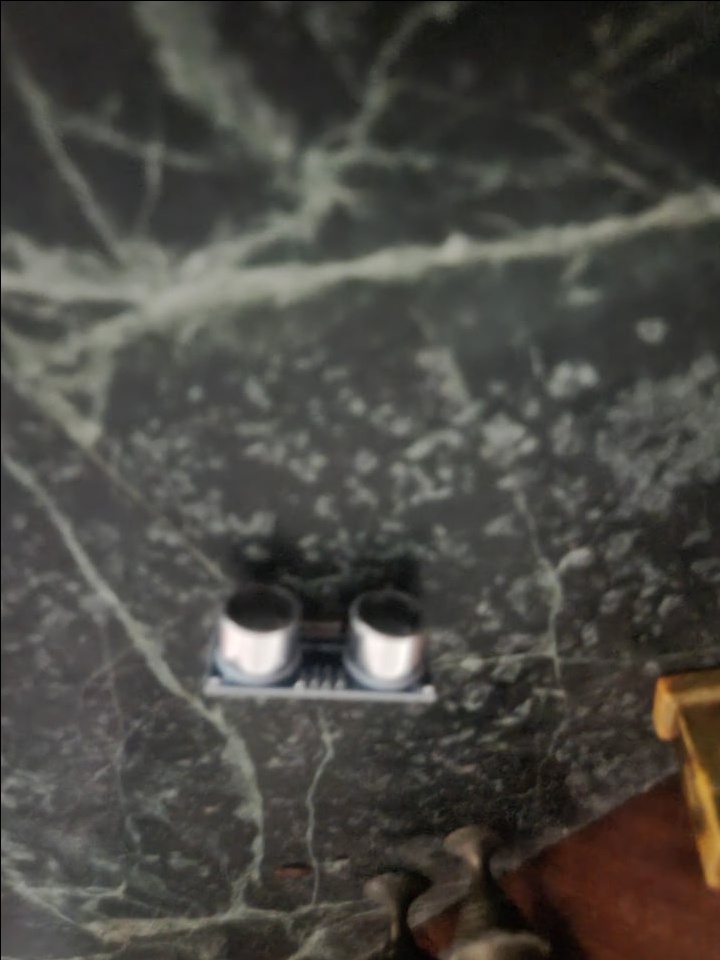SENSOR: (208, 576, 437, 702)
